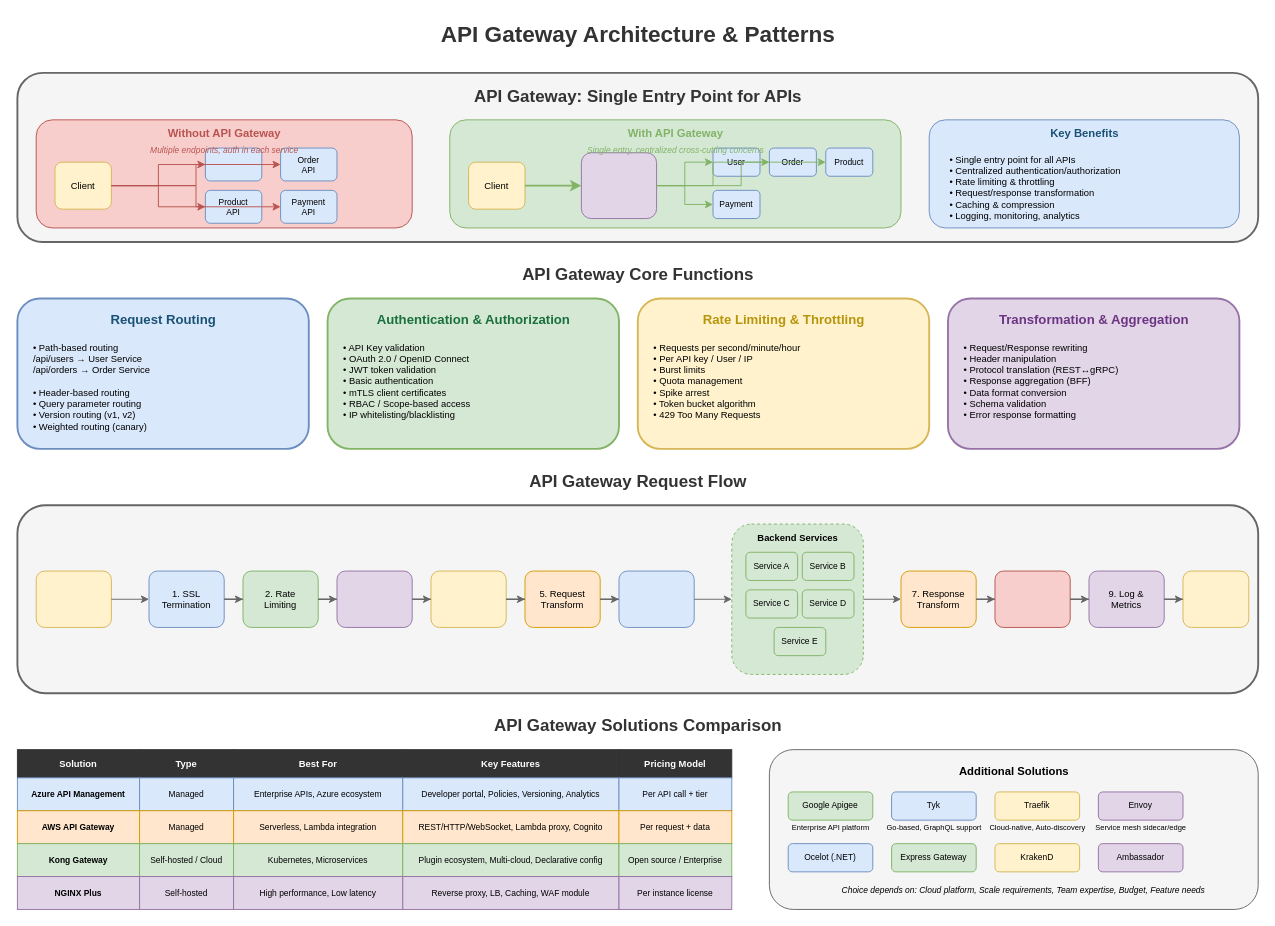
This 1275x926 diagram has some shape labels left out. Each missing label, with the box of its shape:
3. Auth Validation: (336, 570, 412, 627)
4. Request Validation: (430, 570, 506, 627)
6. Route to Service: (618, 570, 694, 627)
8. Cache Response: (994, 570, 1070, 627)
API Gateway: (580, 152, 657, 219)
Client Request: (35, 570, 111, 627)
Response to Client: (1182, 570, 1249, 627)
User API: (204, 147, 262, 181)
